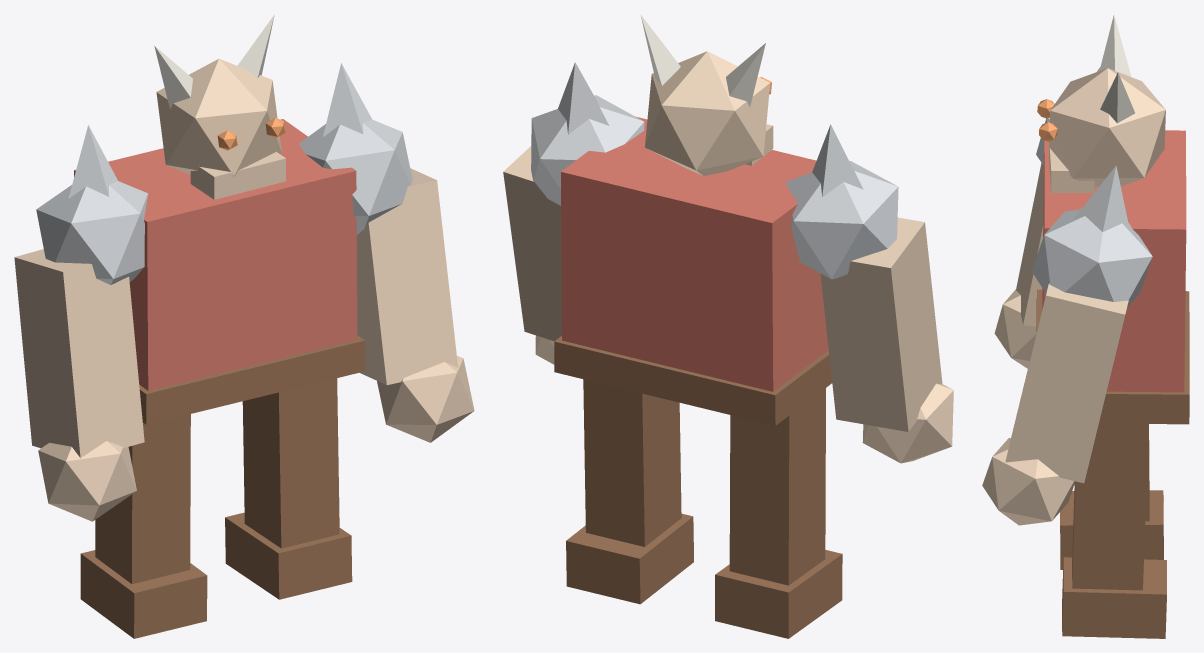
File: npcpose_brute_idle_11.glb
3 views of the same model, side by side, from view 1: azimuth 30°, elevation 25°; view 2: azimuth 150°, elevation 25°; view 3: azimuth 270°, elevation 25° (orthographic). The views are drawn at different scales.
Visible parts, largest first — view 1: npcpose; view 2: npcpose; view 3: npcpose.
Part boxes in pixels (left/top/right/bottom): npcpose: left=14, top=14, right=474, bottom=638; npcpose: left=503, top=14, right=953, bottom=638; npcpose: left=982, top=14, right=1189, bottom=638.
Size of the model in its own units: 1.43 by 1.85 by 0.6403.
